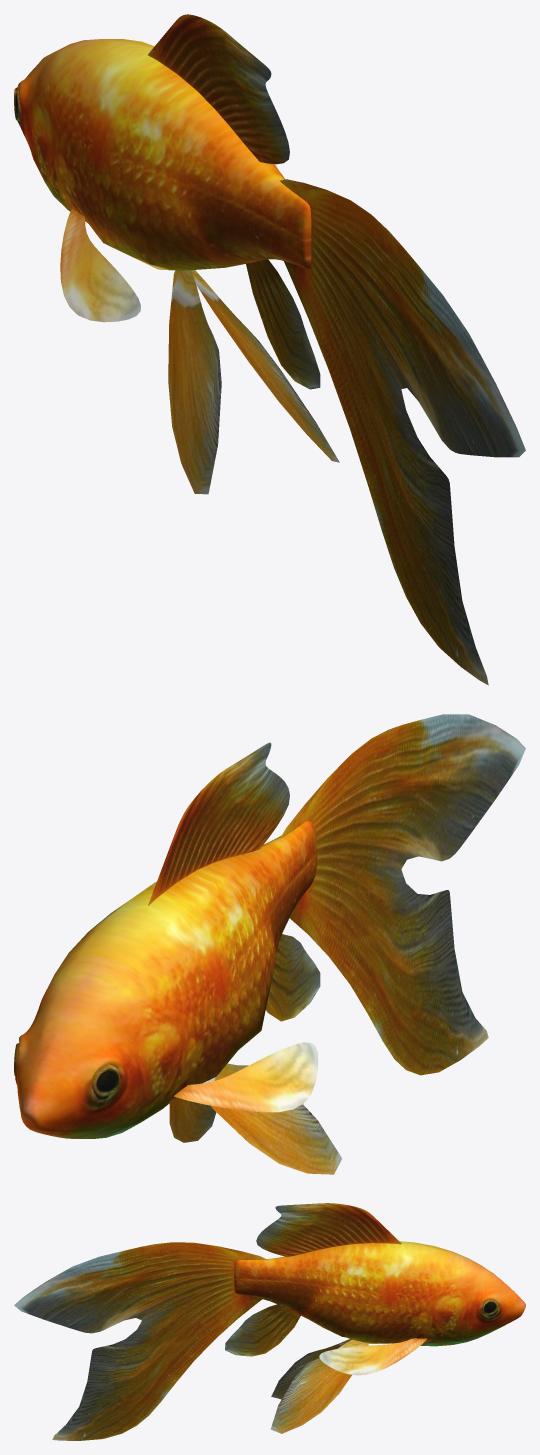
The model's file is goldfish.glb.
3 views of the same model, one above another, from view 1: azimuth 30°, elevation 25°; view 2: azimuth 150°, elevation 25°; view 3: azimuth 270°, elevation 25° (orthographic). The views are drawn at different scales.
Visible parts, largest first — view 1: tail, body, pectoral, dorsal, pectoral.001, anal fin; view 2: body, tail, dorsal, pectoral, pectoral.001, anal fin, Sphere; view 3: tail, body, dorsal, pectoral, anal fin, pectoral.001.
Part boxes in pixels (left/top/right/bottom): tail: left=280, top=179, right=525, bottom=685; body: left=17, top=39, right=311, bottom=270; pectoral: left=168, top=270, right=339, bottom=494; dorsal: left=148, top=14, right=289, bottom=164; pectoral.001: left=60, top=208, right=140, bottom=322; anal fin: left=246, top=259, right=320, bottom=389; body: left=15, top=820, right=317, bottom=1138; tail: left=280, top=714, right=525, bottom=1075; dorsal: left=148, top=742, right=289, bottom=905; pectoral: left=169, top=1063, right=342, bottom=1174; pectoral.001: left=174, top=1042, right=318, bottom=1112; anal fin: left=265, top=934, right=320, bottom=1021; Sphere: left=14, top=1043, right=119, bottom=1097; tail: left=14, top=1242, right=266, bottom=1440; body: left=234, top=1241, right=525, bottom=1346; dorsal: left=256, top=1203, right=401, bottom=1256; pectoral: left=270, top=1339, right=368, bottom=1433; anal fin: left=225, top=1304, right=300, bottom=1356; pectoral.001: left=319, top=1338, right=427, bottom=1375.
Bounding box in the file's own units: 1.25 × 2.49 × 4.85.
3 materials, 3 textured.
